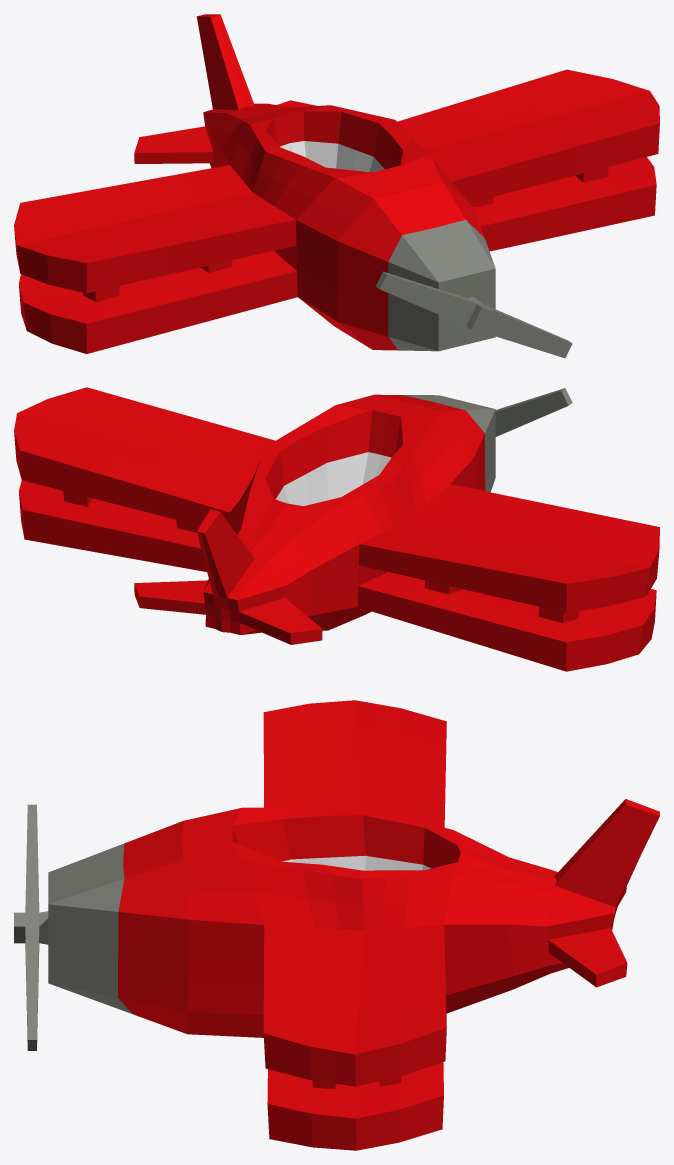
3 views of the same model, one above another, from view 1: azimuth 30°, elevation 25°; view 2: azimuth 150°, elevation 25°; view 3: azimuth 270°, elevation 25° (orthographic). The views are drawn at different scales.
Visible parts, largest first — view 1: Cube; view 2: Cube; view 3: Cube.
Part boxes in pixels (x1,y1,x2,y2): Cube: (14,14,659,358); Cube: (14,387,659,671); Cube: (14,700,659,1150).
Bounding box in the file's own units: 1215 × 346 × 936.
